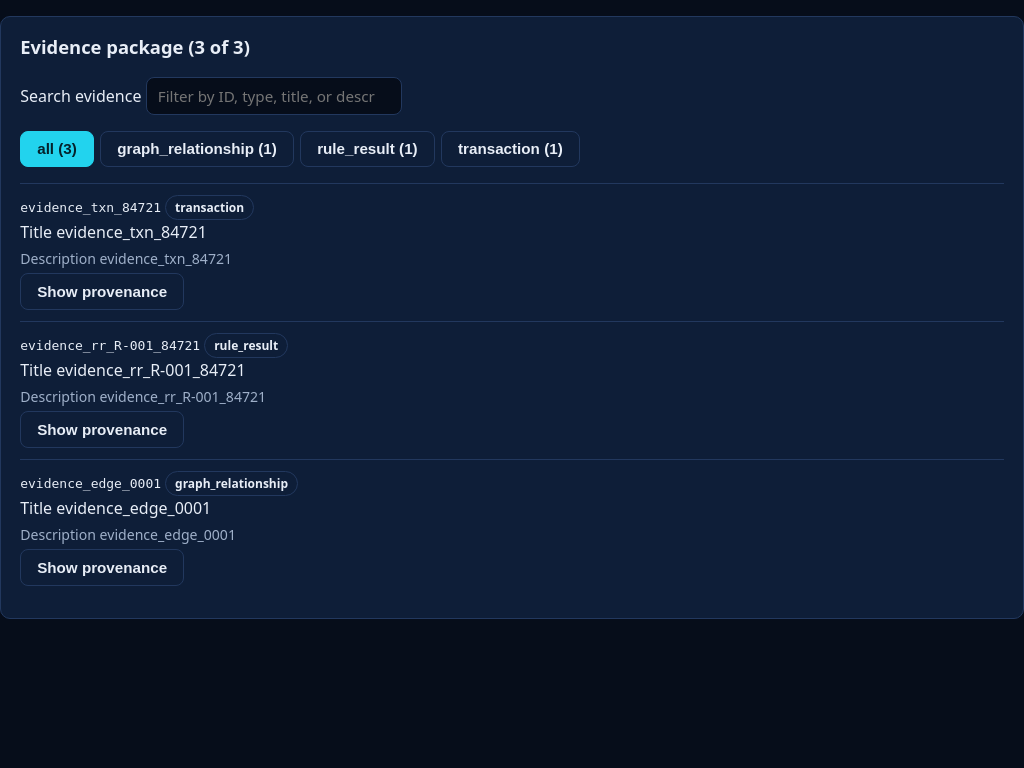
Scenario: EvidenceList › combines search with the type filter and clears both
Click the button "graph_relationship (1)" at (197, 149), box top-left (100, 131), bottom-right (294, 167)
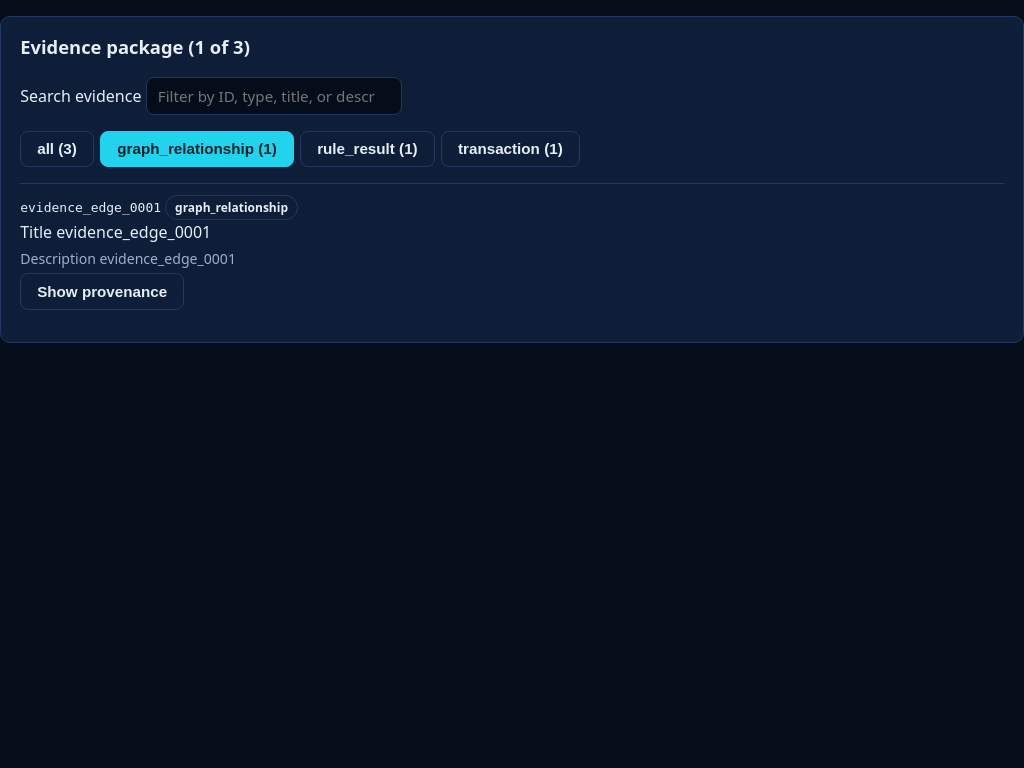
Type "txn_84721" into the search field labelled "Search evidence" at (274, 96), box top-left (146, 77), bottom-right (402, 115)
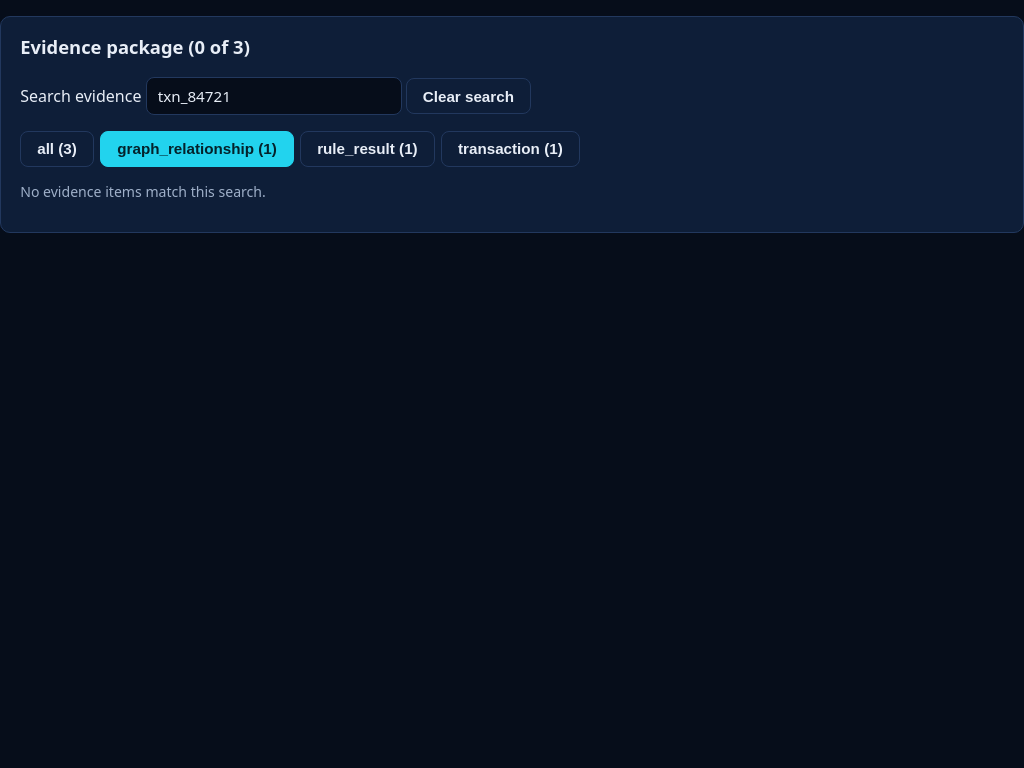
Now the text "No evidence items match this search." is shown, box top-left (20, 182), bottom-right (266, 201)
Click the button "Clear search" at (468, 96), box top-left (406, 78), bottom-right (531, 114)
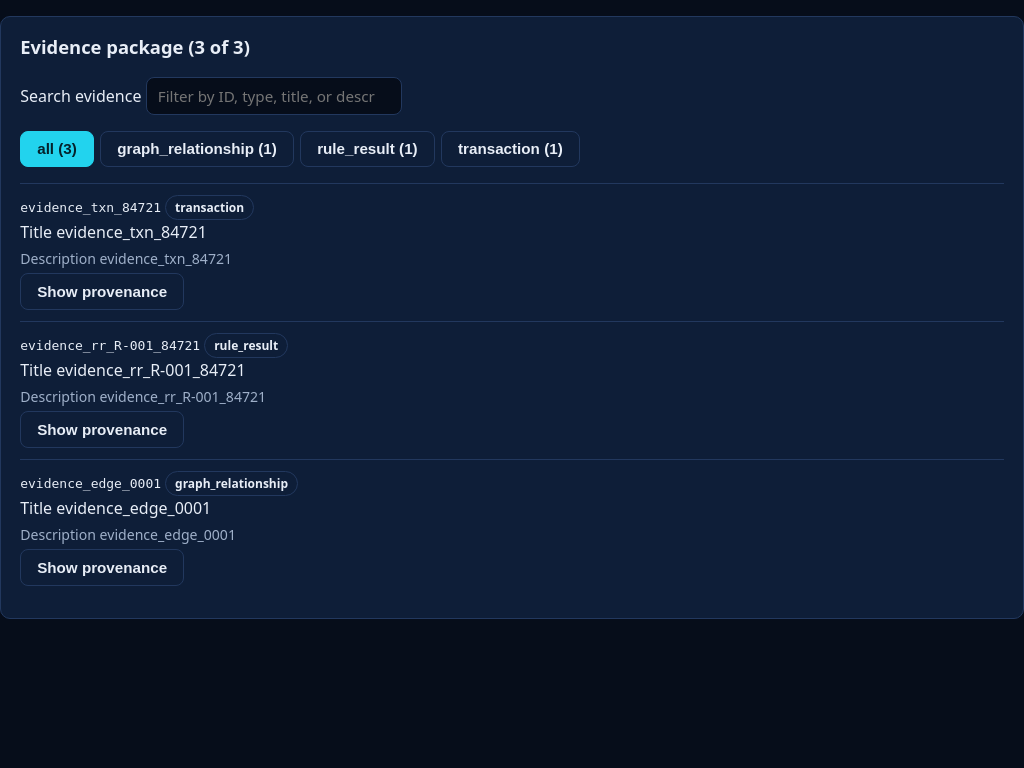
Now the heading "Evidence package (3 of 3)" is shown, box top-left (20, 34), bottom-right (250, 59)
Now the search field labelled "Search evidence" is empty, box top-left (146, 77), bottom-right (402, 115)
